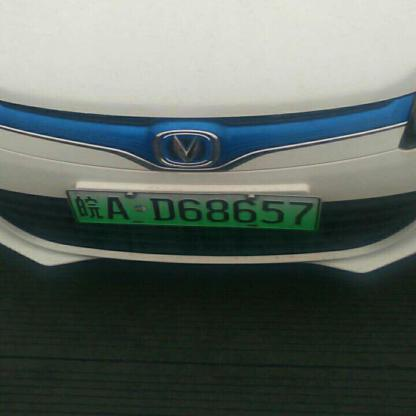lp: (66, 190, 319, 230)
